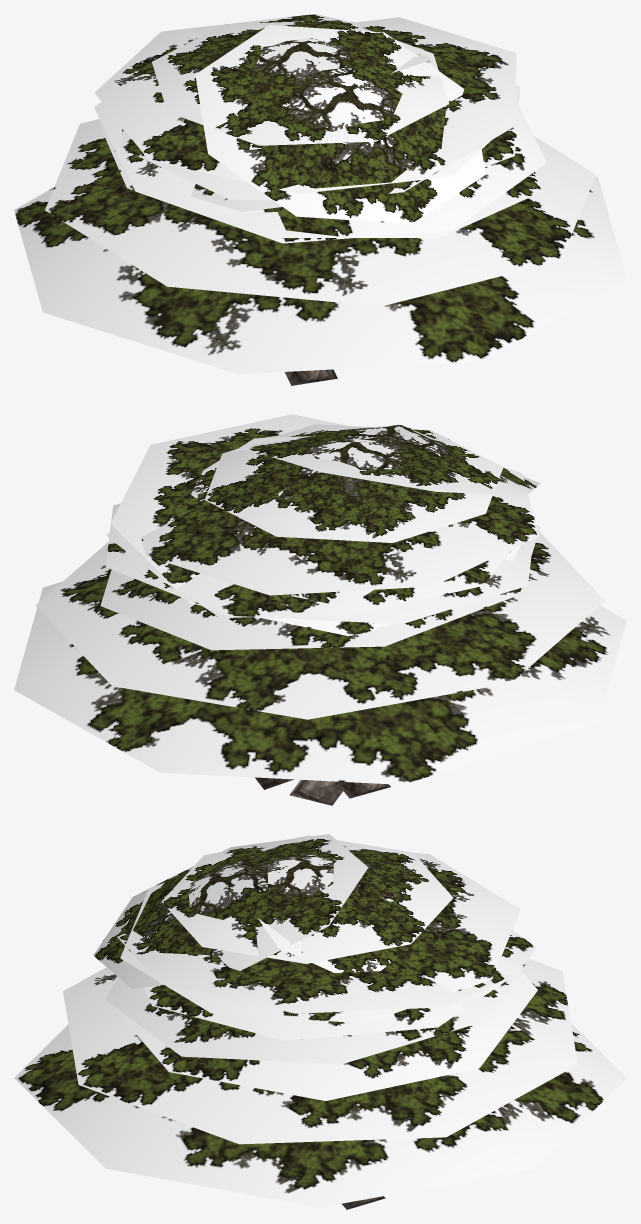
Rendered from oak_0.obj.
3 renders of one model, top to bottom at view 1: azimuth 30°, elevation 25°; view 2: azimuth 150°, elevation 25°; view 3: azimuth 270°, elevation 25°, orthographic. The views are drawn at different scales.
Visible parts, largest first — view 1: oak_0; view 2: oak_0; view 3: oak_0.
Part boxes in pixels (x1,y1,x2,y2): oak_0: [14, 14, 626, 385]; oak_0: [14, 414, 626, 805]; oak_0: [14, 834, 626, 1209].
Size of the model in its own units: 17.14 by 9.64 by 17.14.
